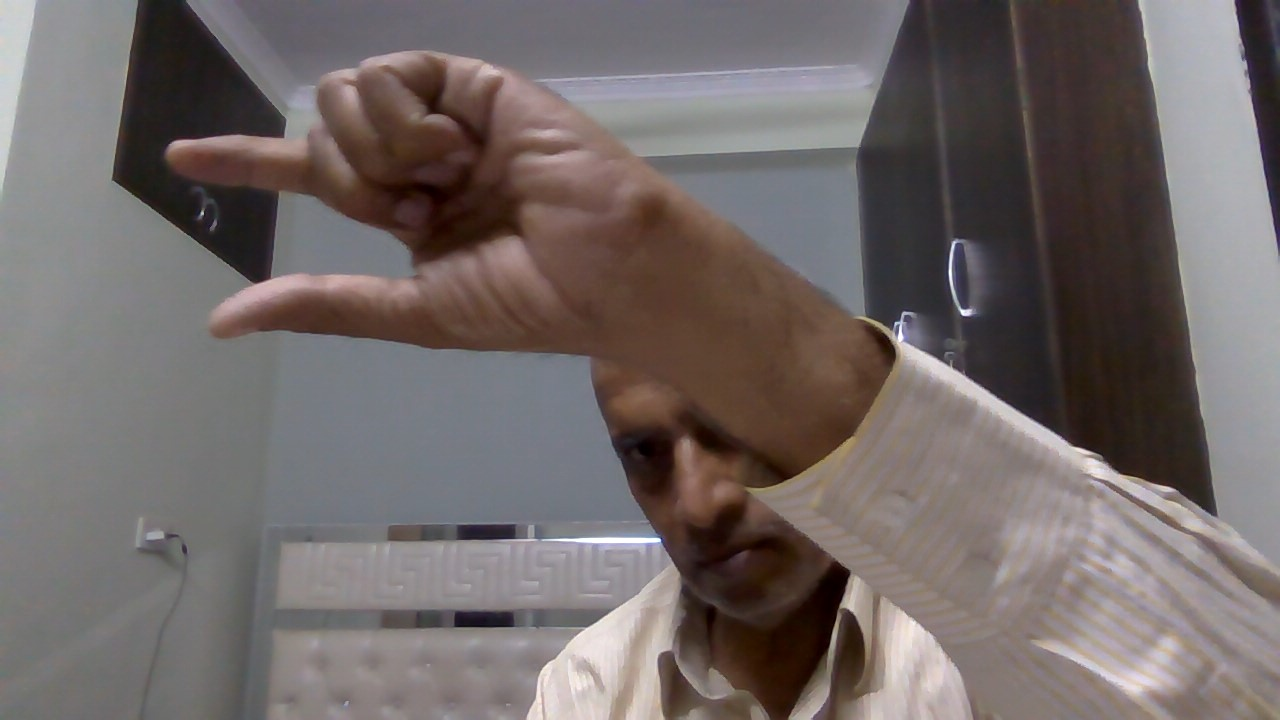Paste: (153, 44, 642, 379)
